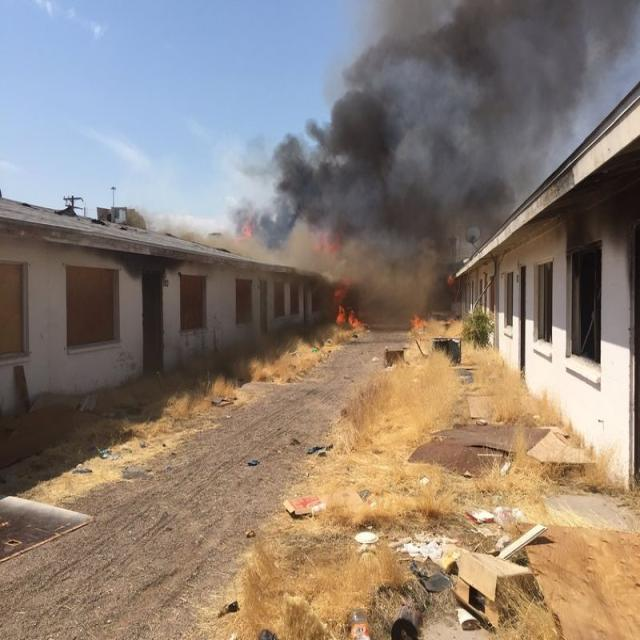smoke: (447, 0, 597, 117), (347, 103, 434, 294)
